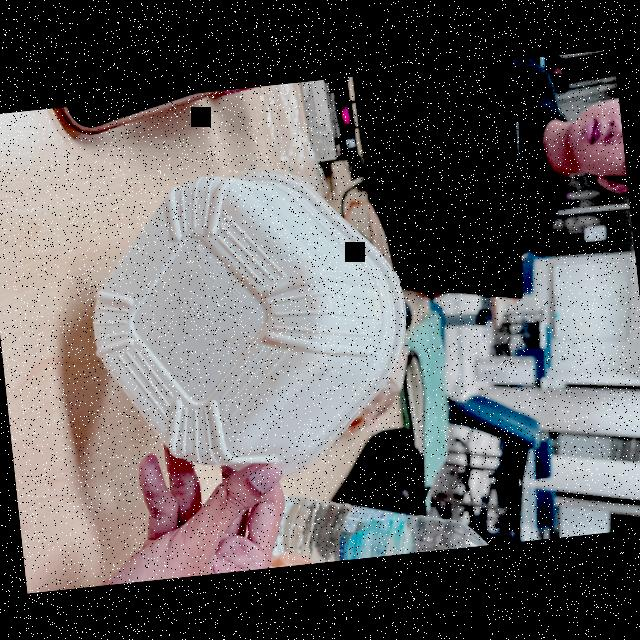plastic_box: (86, 162, 422, 490)
